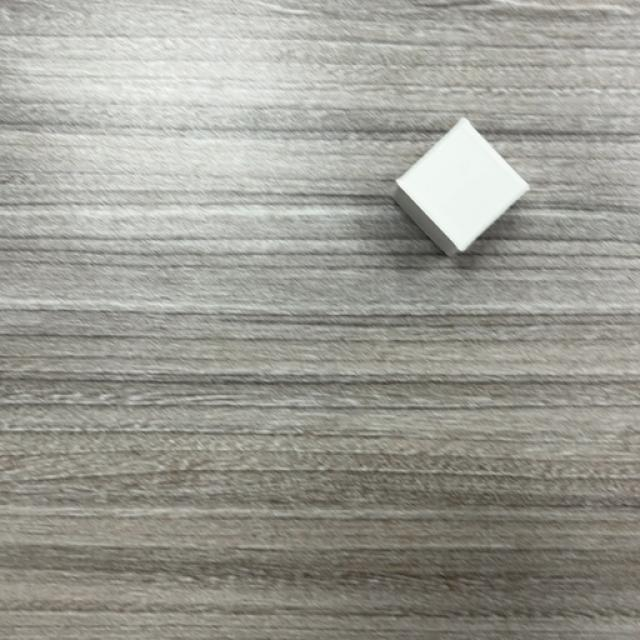Blanco: (392, 119, 530, 259)
